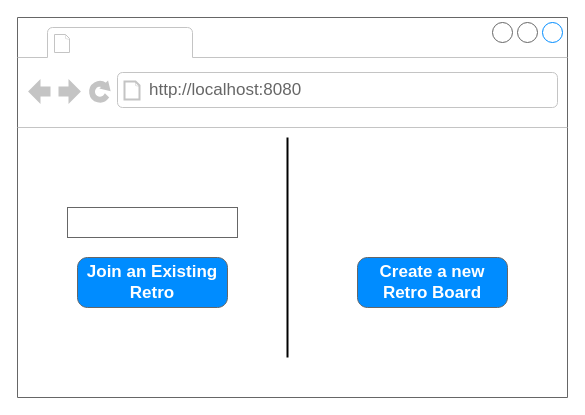
Some shapes in this 585 by 415 pixel diagram are drawn without their labels. The shapes that lost their labels are listed below. From the top down, each one's box as (x1, y1, x2, y2) in pixels, then its label:
(76, 28, 188, 56): SprintRetro
(66, 206, 238, 238): Enter Retro ID to join
